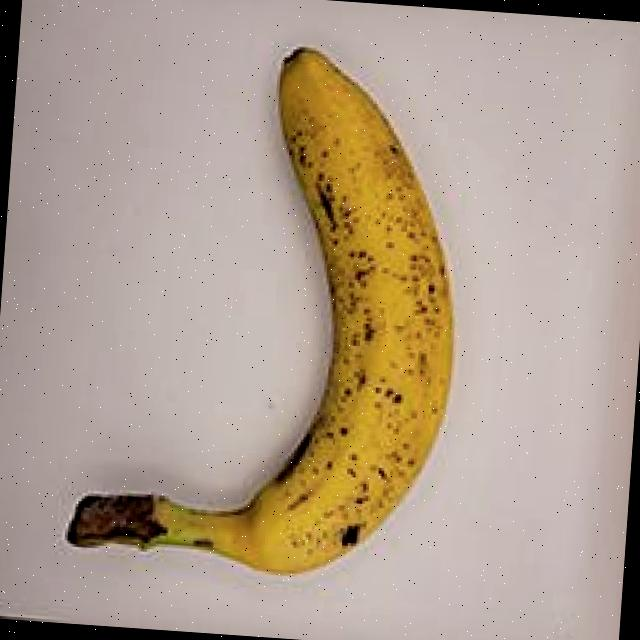Overripe: (29, 4, 496, 610)
